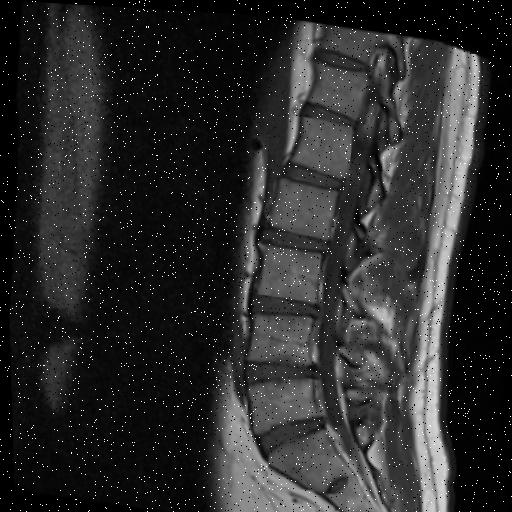L1: (290, 113, 352, 173)
L2: (270, 177, 335, 235)
L3: (256, 244, 319, 299)
L4: (245, 311, 312, 363)
L5: (247, 377, 317, 430)
S1: (266, 426, 346, 489)
